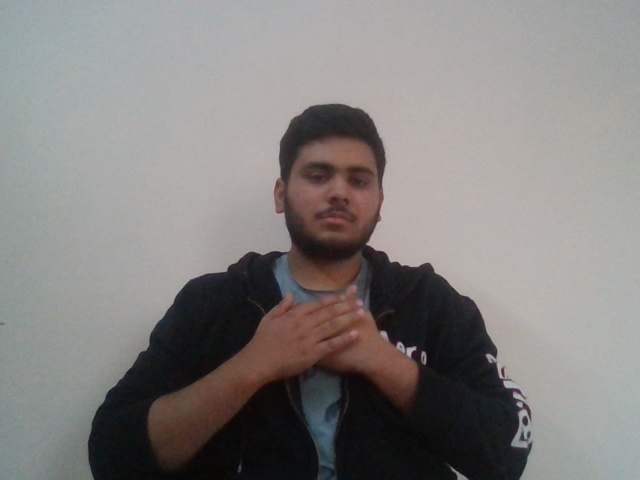Please: (248, 284, 398, 374)
